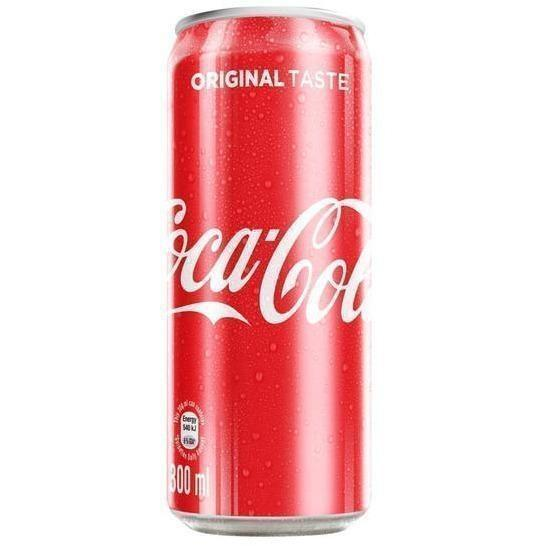tin can: (162, 4, 377, 544)
